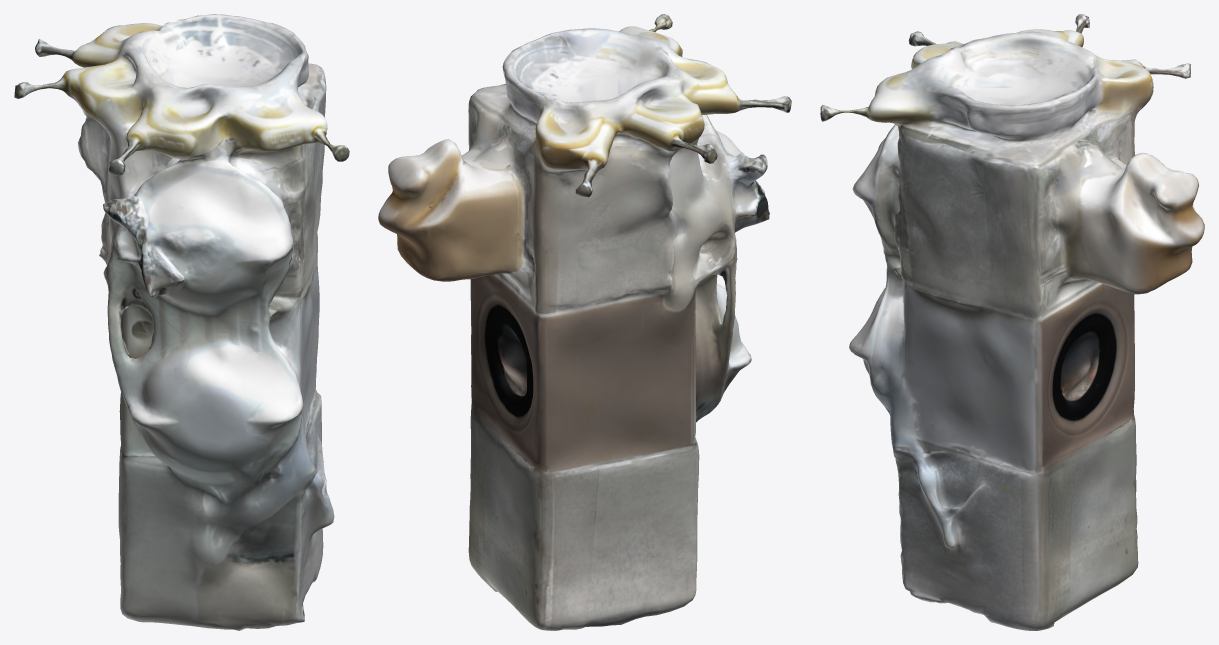
The picture shows the model from 3 angles, left to right: view 1: azimuth 30°, elevation 25°; view 2: azimuth 150°, elevation 25°; view 3: azimuth 270°, elevation 25°; orthographic projection. The views are drawn at different scales.
Parts seen in each view (by area): view 1: P13; view 2: P13; view 3: P13.
Part boxes in pixels (x1,y1,x2,y2): P13: (14, 14, 349, 630); P13: (378, 14, 791, 630); P13: (820, 14, 1204, 630).
Size of the model in its own units: 0.3585 by 0.6408 by 0.4204.
Materials: 1 (1 with a texture image).
